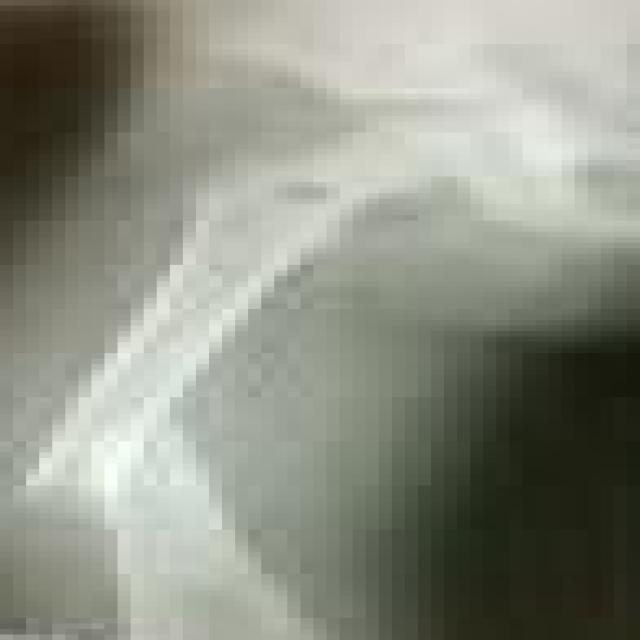Broken: (17, 191, 349, 490), (97, 425, 338, 638)
